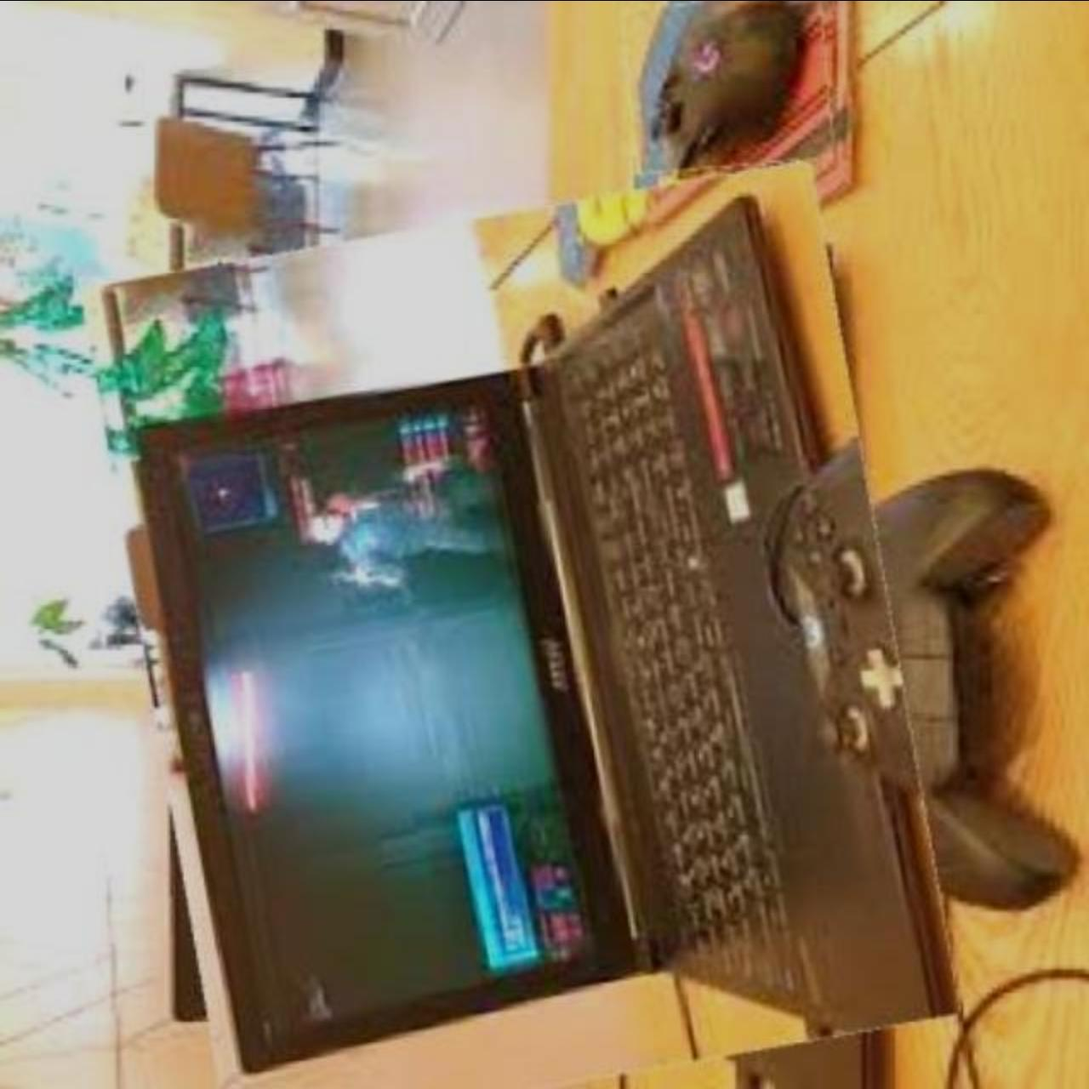laptop: (115, 188, 923, 1088)
